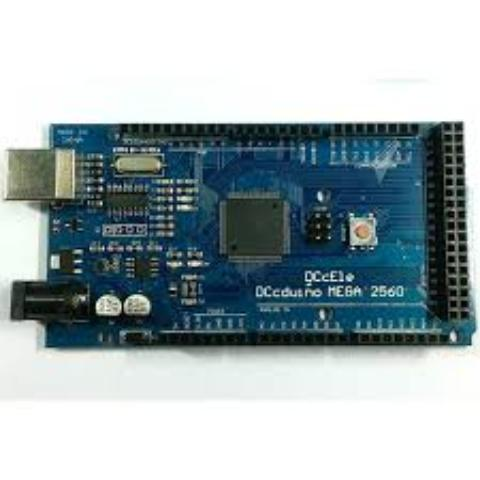Arduino-Mega: (0, 106, 480, 364)
